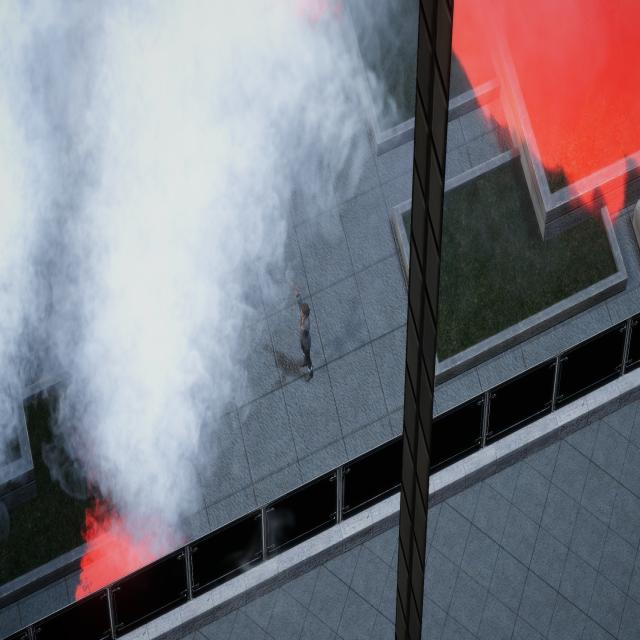Human: (285, 261, 318, 384)
